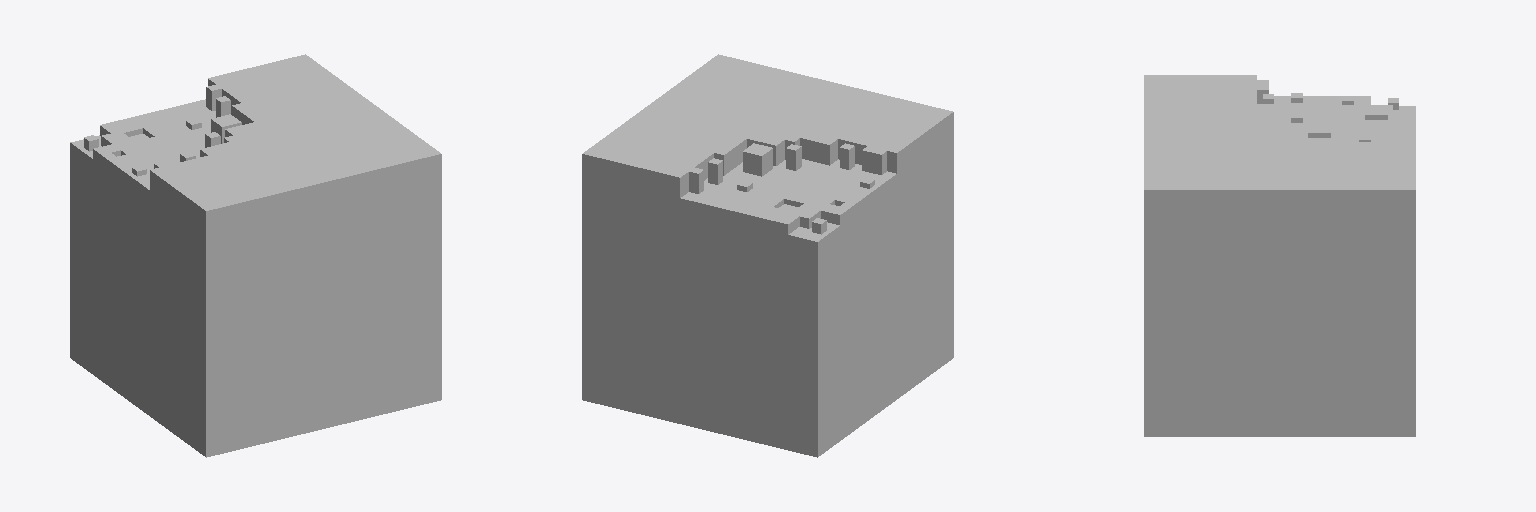
Rendered from grass2riverInnerCorner-0.obj.
3 renders of one model, left to right at view 1: azimuth 30°, elevation 25°; view 2: azimuth 150°, elevation 25°; view 3: azimuth 270°, elevation 25°, orthographic.
Parts seen in each view (by area): view 1: object 1; view 2: object 1; view 3: object 1.
Part boxes in pixels (x1,y1,x2,y2): object 1: (70, 54, 441, 457); object 1: (582, 54, 953, 457); object 1: (1144, 75, 1415, 436).
Size of the model in its own units: 4.8 by 4.8 by 4.8.